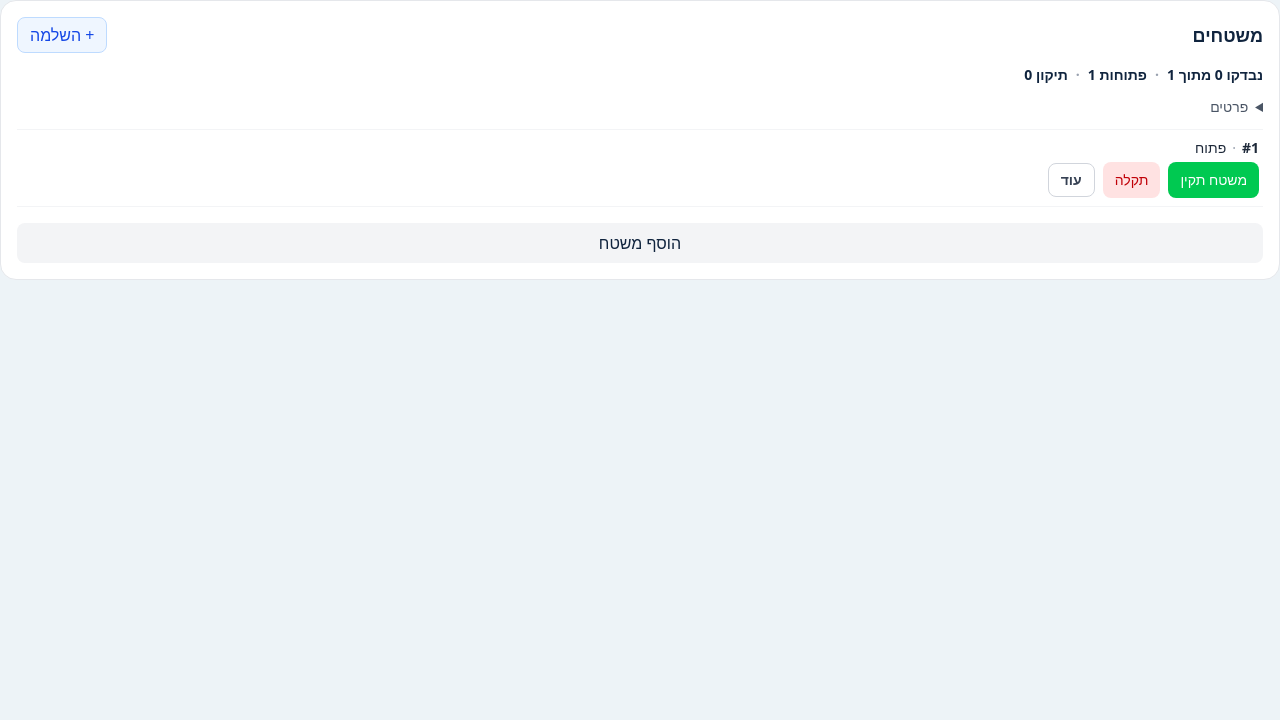
Test: ManualOrderCheckUnitsPanel - Stockout Flow Refinement › selecting מוצר אזל hides reason grid and shows choice screen
Click the button "תקלה" at (1132, 180), box [1103,162,1160,198]
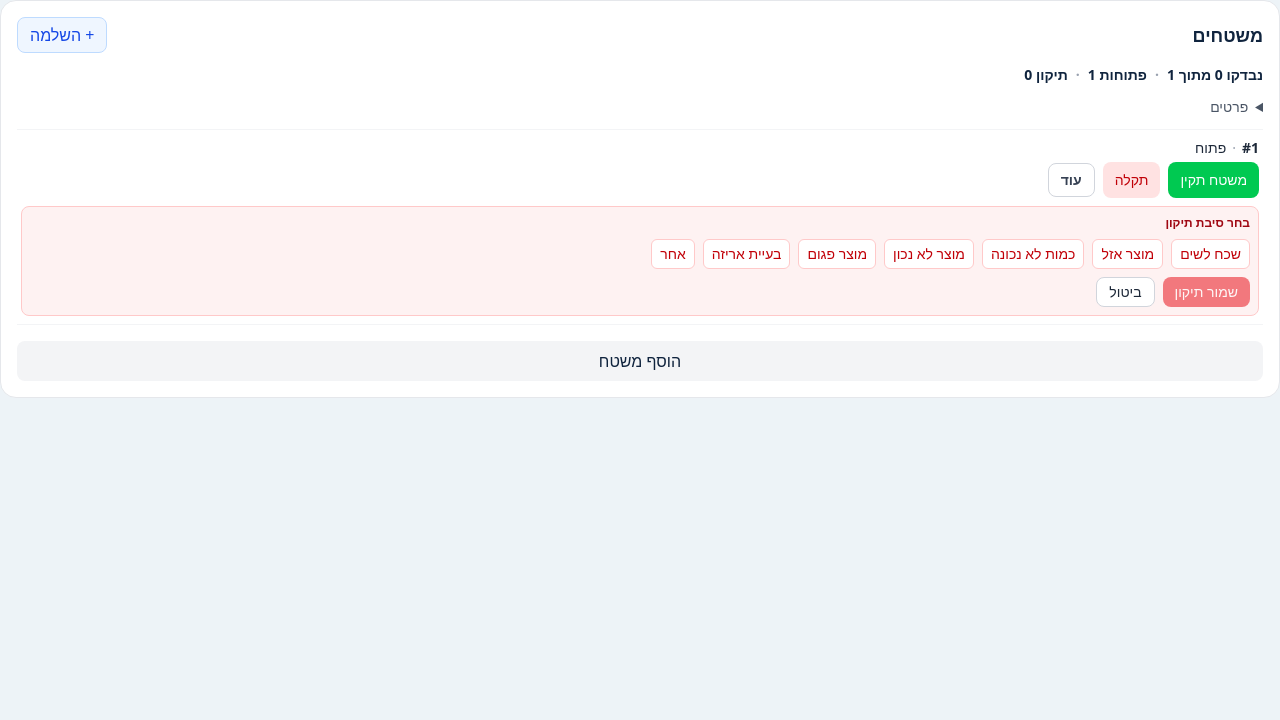
Check: the text "בחר סיבת תיקון" is shown, box [1165,214,1250,231]
Check: the button "מוצר אזל" is shown
Click the button "מוצר אזל" at (1128, 254), box [1092,239,1163,269]
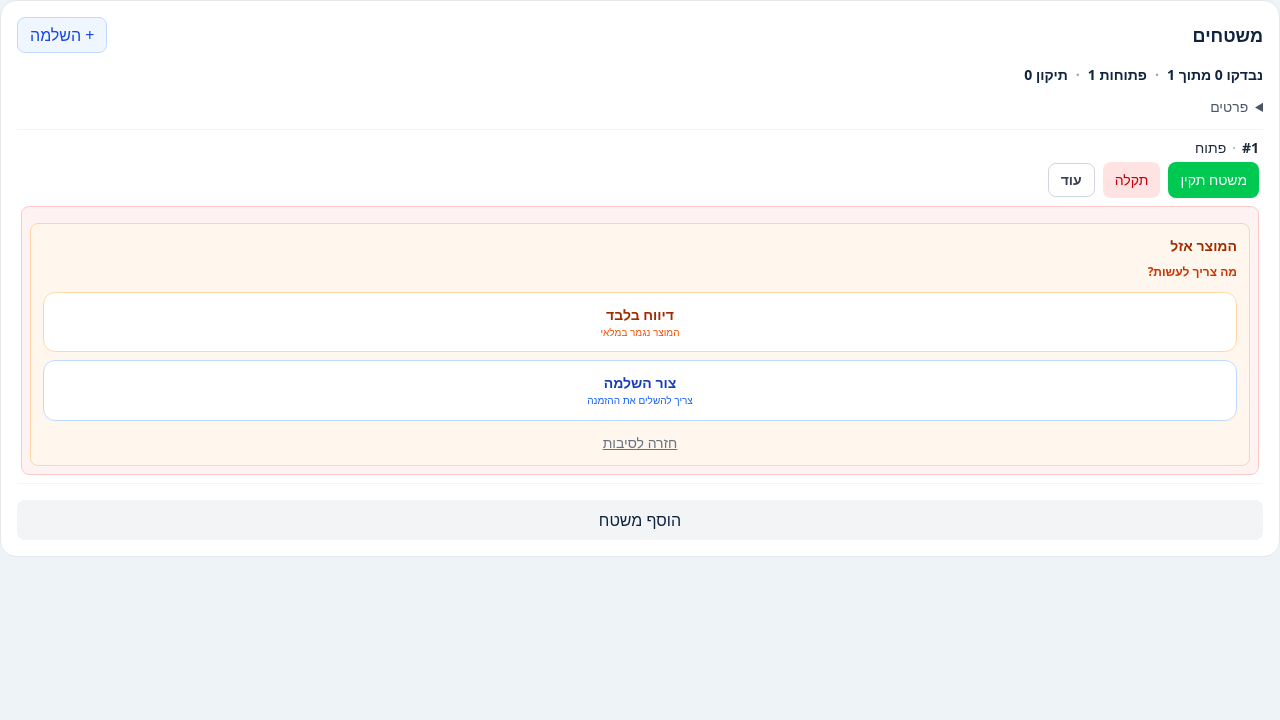
Check: the text "בחר סיבת תיקון" is gone
Check: the text "המוצר אזל" is shown, box [1170,236,1237,255]
Check: the text "מה צריך לעשות?" is shown, box [1148,263,1237,280]
